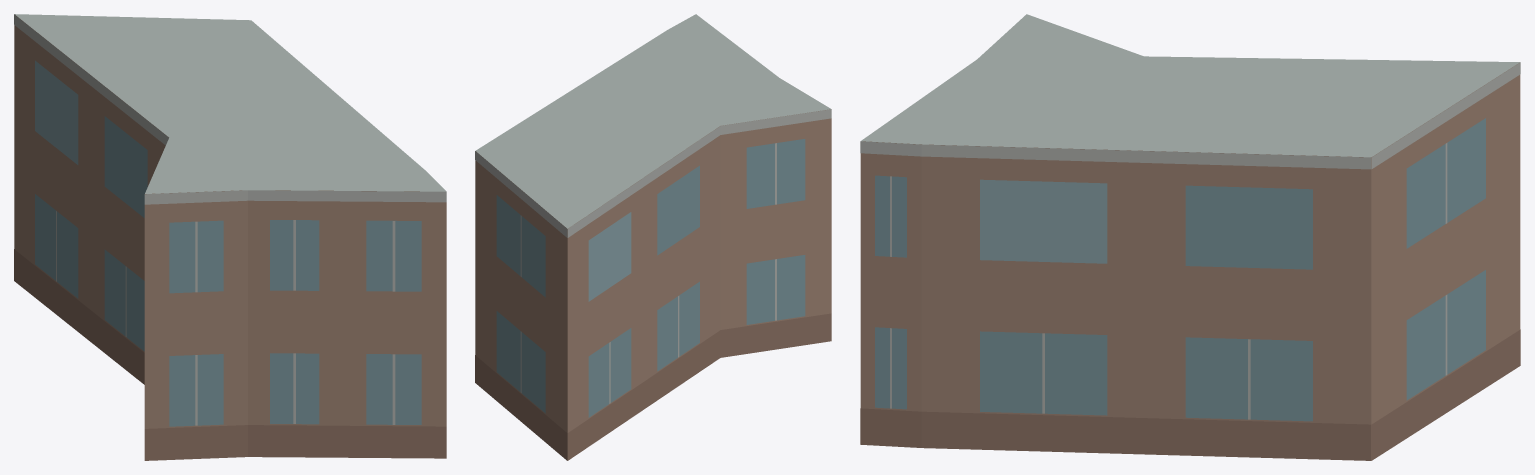
The model's file is survey-upis-33028457.glb.
3 renders of one model, left to right at view 1: azimuth 30°, elevation 25°; view 2: azimuth 150°, elevation 25°; view 3: azimuth 270°, elevation 25°, orthographic. The views are drawn at different scales.
Visible parts, largest first — view 1: survey-upis-33028457.tmp; view 2: survey-upis-33028457.tmp; view 3: survey-upis-33028457.tmp.
Part boxes in pixels (<box>): survey-upis-33028457.tmp: <box>14,14,446,460</box>; survey-upis-33028457.tmp: <box>475,14,831,460</box>; survey-upis-33028457.tmp: <box>860,14,1520,460</box>.
Size of the model in its own units: 6.19 by 6.1 by 12.03.
